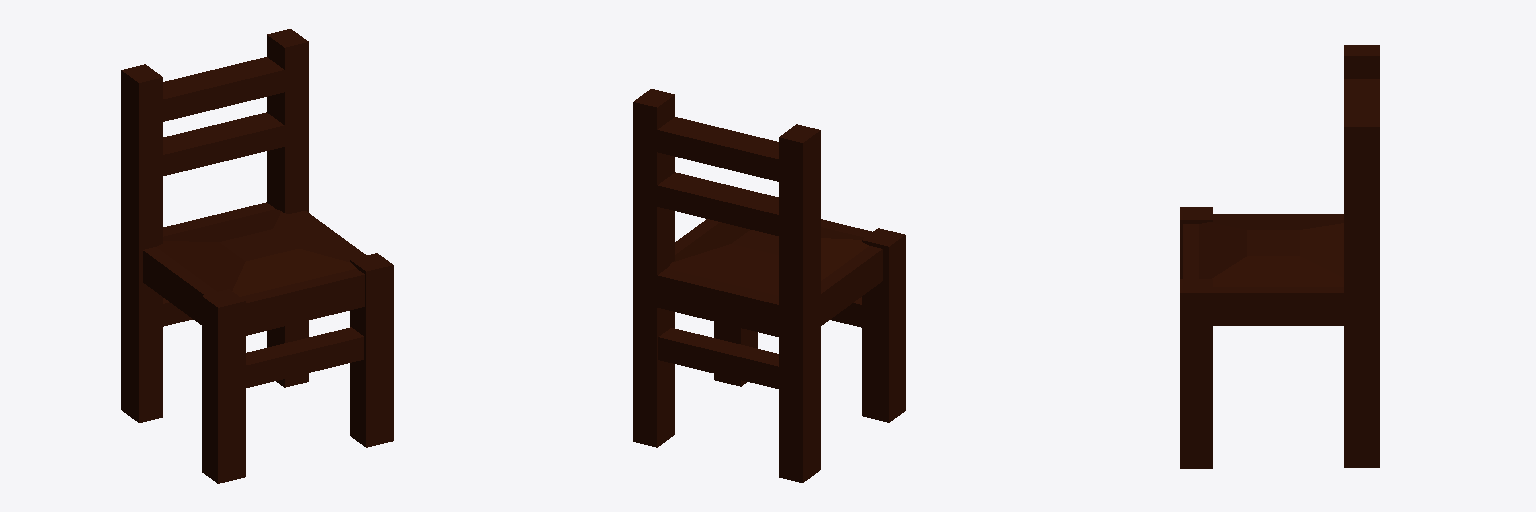
File: chair_01.obj
3 views of the same model, side by side, from view 1: azimuth 30°, elevation 25°; view 2: azimuth 150°, elevation 25°; view 3: azimuth 270°, elevation 25° (orthographic).
Visible parts, largest first — view 1: Box031; view 2: Box031; view 3: Box031.
Boxes of the visible parts, x1=… form: Box031: x1=121, y1=29, x2=393, y2=483; Box031: x1=633, y1=89, x2=905, y2=482; Box031: x1=1180, y1=45, x2=1379, y2=468.
Size of the model in its own units: 19.67 by 36.41 by 19.38.